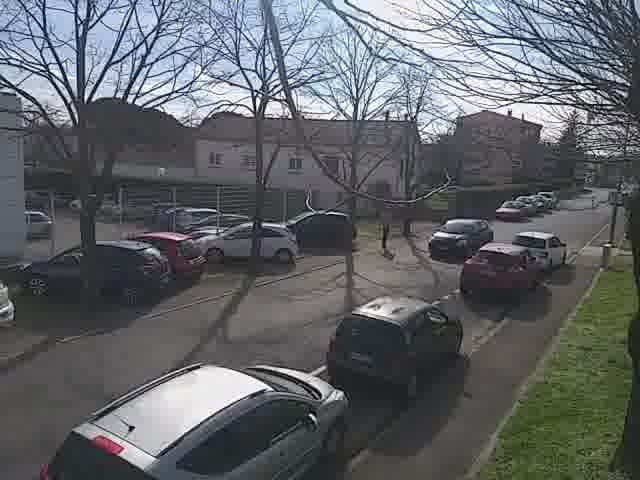persona: (375, 200, 396, 254)
